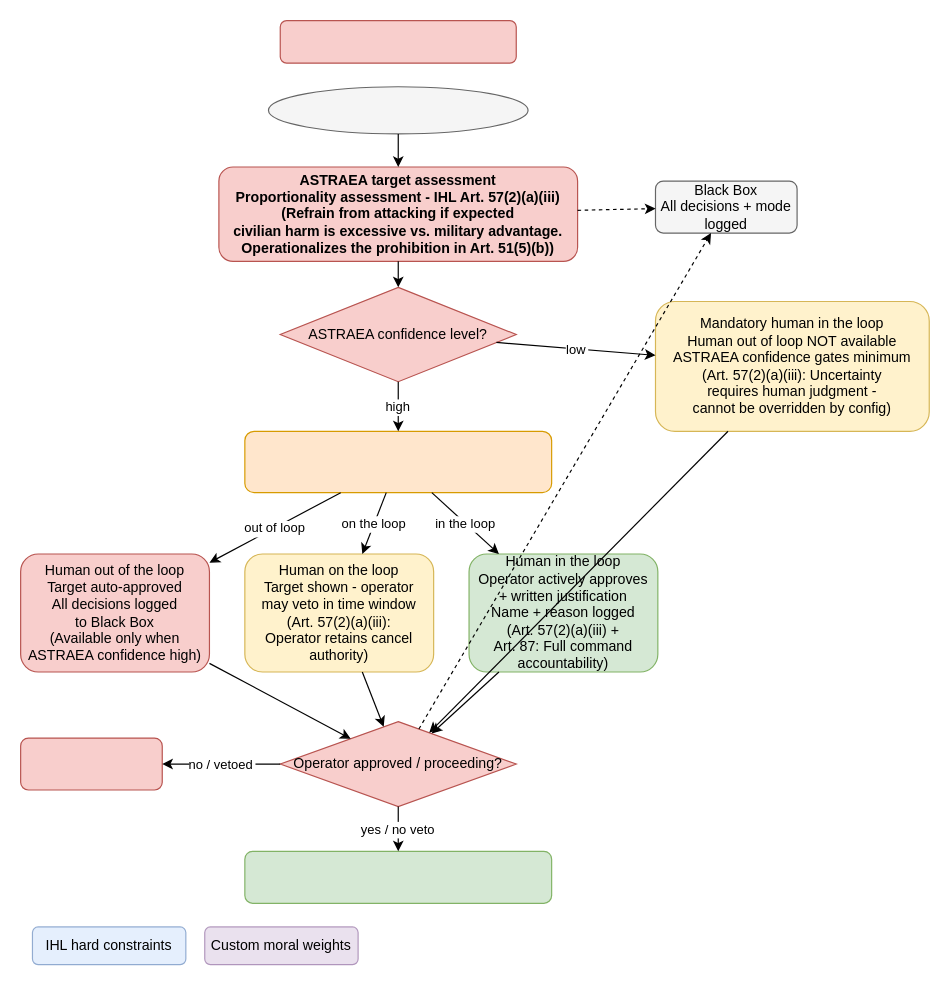
The diagram is 950 pixels wide and 985 high, and some of its shapes have lost their labels. Here are the shapes that lost their labels. From the top down, the centre of each, then its label:
point (397, 41): Stage 3 - Target
point (397, 110): Confirmed target from Fix
point (398, 461): Human involvement mode (configured by deploying state) ASTRAEA confidence: HIGH
point (90, 763): Target cancelled Logged with reason
point (398, 876): Target approved
